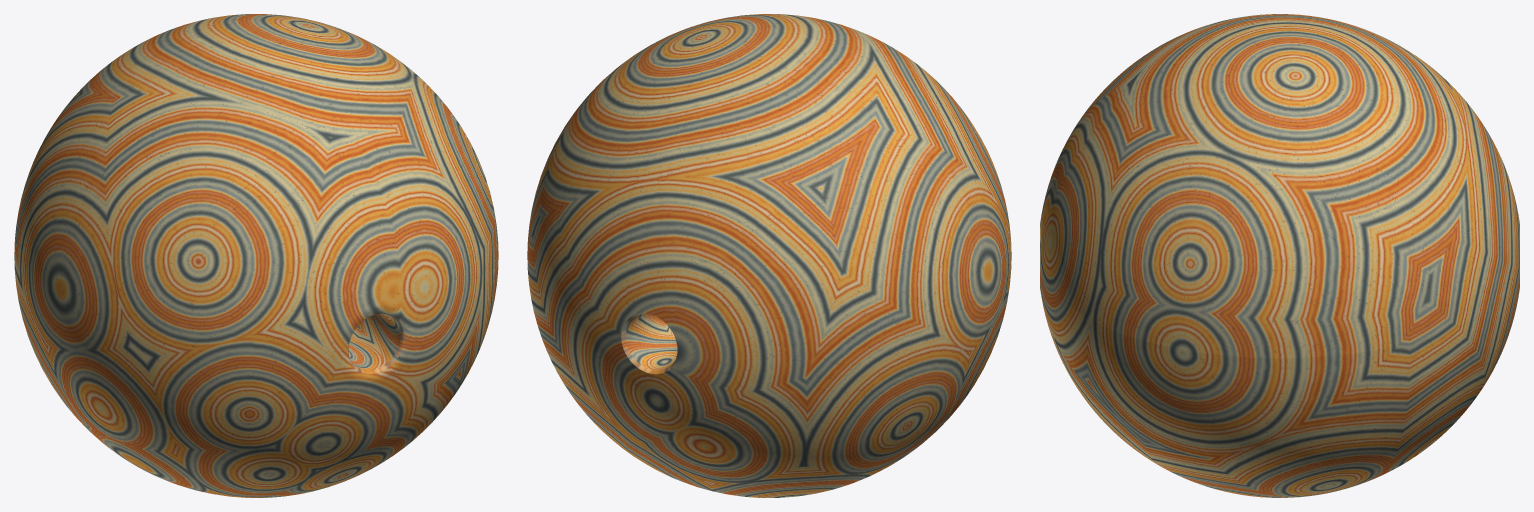
The model's file is crazy-lace-agate.glb.
The picture shows the model from 3 angles, left to right: view 1: azimuth 30°, elevation 25°; view 2: azimuth 150°, elevation 25°; view 3: azimuth 270°, elevation 25°; orthographic projection.
Visible parts, largest first — view 1: crazy-lace-agate.001; view 2: crazy-lace-agate.001; view 3: crazy-lace-agate.001.
Boxes of the visible parts, x1,y1,x2,y2 form: crazy-lace-agate.001: [14, 14, 498, 497]; crazy-lace-agate.001: [527, 14, 1011, 497]; crazy-lace-agate.001: [1040, 14, 1519, 497].
Size of the model in its own units: 0.008 by 0.008 by 0.00793.
Materials: 1 (1 with a texture image).
